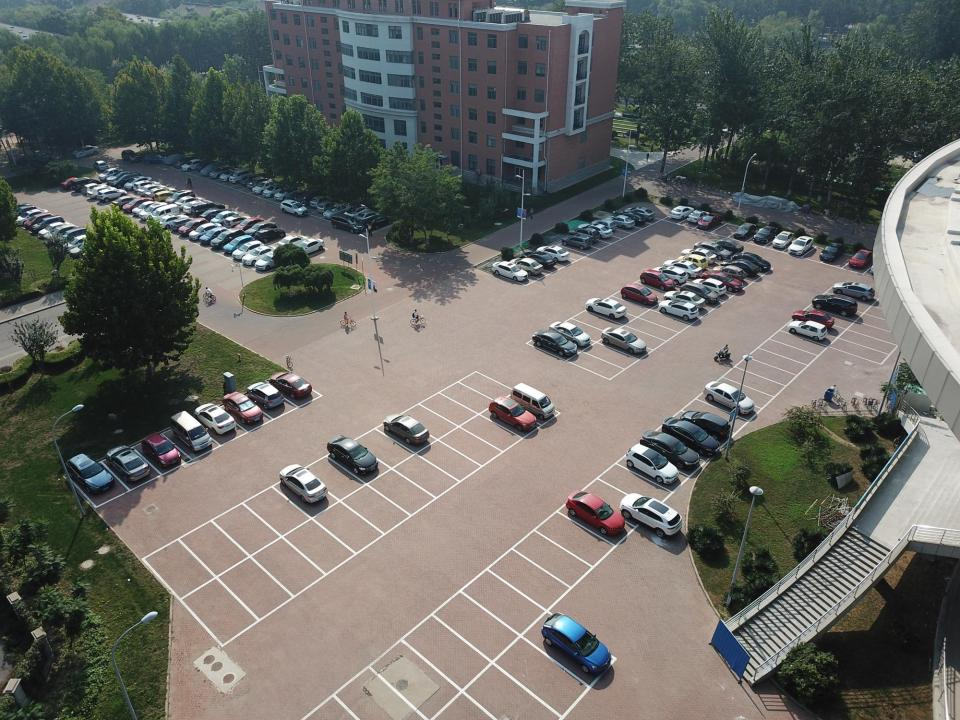car: (541, 612, 612, 674), (566, 489, 626, 535), (620, 493, 682, 537), (662, 416, 721, 456), (640, 429, 699, 469), (624, 444, 679, 484), (326, 435, 378, 474), (63, 454, 114, 493), (280, 464, 328, 503), (488, 395, 536, 432), (704, 381, 755, 415), (105, 446, 149, 482), (680, 410, 730, 441), (142, 432, 181, 469), (383, 413, 429, 444), (222, 391, 263, 424), (194, 403, 236, 434), (601, 326, 646, 354), (532, 329, 577, 356), (268, 371, 312, 398), (549, 321, 591, 347), (247, 382, 285, 409), (812, 294, 857, 316), (701, 270, 743, 293), (621, 282, 658, 306), (680, 282, 719, 304), (586, 298, 626, 319), (658, 300, 699, 320), (787, 320, 827, 340), (832, 282, 874, 301), (733, 252, 771, 272), (662, 260, 702, 279), (792, 311, 834, 329), (664, 291, 705, 309), (694, 240, 730, 260), (492, 260, 528, 280), (210, 228, 244, 249), (55, 226, 87, 248), (640, 270, 675, 290), (255, 251, 290, 271), (242, 246, 277, 266), (720, 259, 758, 277), (652, 266, 688, 285), (232, 240, 265, 260), (69, 242, 105, 260), (62, 234, 98, 252), (30, 215, 66, 233), (692, 278, 726, 297), (521, 250, 556, 268), (708, 238, 744, 255), (509, 258, 543, 276), (188, 223, 222, 241), (244, 221, 278, 239), (224, 235, 256, 254), (38, 221, 70, 240), (24, 211, 54, 231), (15, 209, 48, 227), (294, 239, 325, 258), (536, 245, 570, 262), (681, 248, 717, 264), (44, 224, 76, 242), (191, 200, 223, 218), (712, 265, 745, 282), (110, 171, 141, 189), (676, 254, 708, 271), (200, 226, 230, 244), (178, 218, 208, 236), (13, 204, 43, 222), (156, 214, 189, 230), (788, 236, 814, 256), (144, 186, 176, 202), (562, 233, 592, 250), (569, 227, 599, 244), (578, 223, 612, 238), (122, 197, 152, 214), (233, 217, 263, 234), (183, 199, 213, 216), (280, 199, 308, 217), (323, 202, 351, 220), (139, 202, 167, 220), (819, 242, 844, 262), (277, 235, 308, 251), (613, 210, 646, 225), (166, 189, 195, 206), (255, 228, 285, 244), (199, 207, 230, 222), (606, 214, 635, 230), (132, 200, 159, 217), (753, 226, 777, 245), (733, 221, 757, 240), (274, 186, 302, 202), (98, 187, 127, 202), (223, 216, 252, 231), (175, 196, 204, 211), (624, 207, 654, 221), (366, 215, 394, 230), (210, 210, 238, 225), (849, 250, 872, 268), (344, 204, 367, 222), (698, 213, 722, 230), (106, 170, 134, 184), (590, 219, 616, 234), (86, 186, 116, 199), (111, 195, 141, 208), (355, 210, 379, 226), (262, 184, 289, 198), (172, 217, 199, 231), (137, 184, 166, 197), (123, 176, 152, 189), (246, 176, 271, 191), (772, 231, 794, 248), (252, 180, 278, 194), (220, 168, 246, 182), (134, 180, 162, 193), (200, 162, 225, 176), (687, 209, 710, 224), (154, 190, 180, 203), (670, 206, 694, 220), (72, 145, 100, 157), (63, 177, 83, 193), (210, 166, 234, 179), (181, 159, 206, 171), (98, 168, 123, 180), (241, 174, 264, 187), (174, 156, 198, 168), (163, 154, 186, 166), (84, 183, 107, 195), (317, 200, 337, 213), (310, 195, 330, 208), (143, 154, 167, 164), (197, 160, 218, 171), (122, 150, 140, 162), (92, 160, 108, 172)
van: (170, 411, 212, 453), (510, 382, 555, 420), (332, 213, 363, 233), (151, 204, 181, 224), (71, 177, 101, 193), (229, 168, 252, 184)
